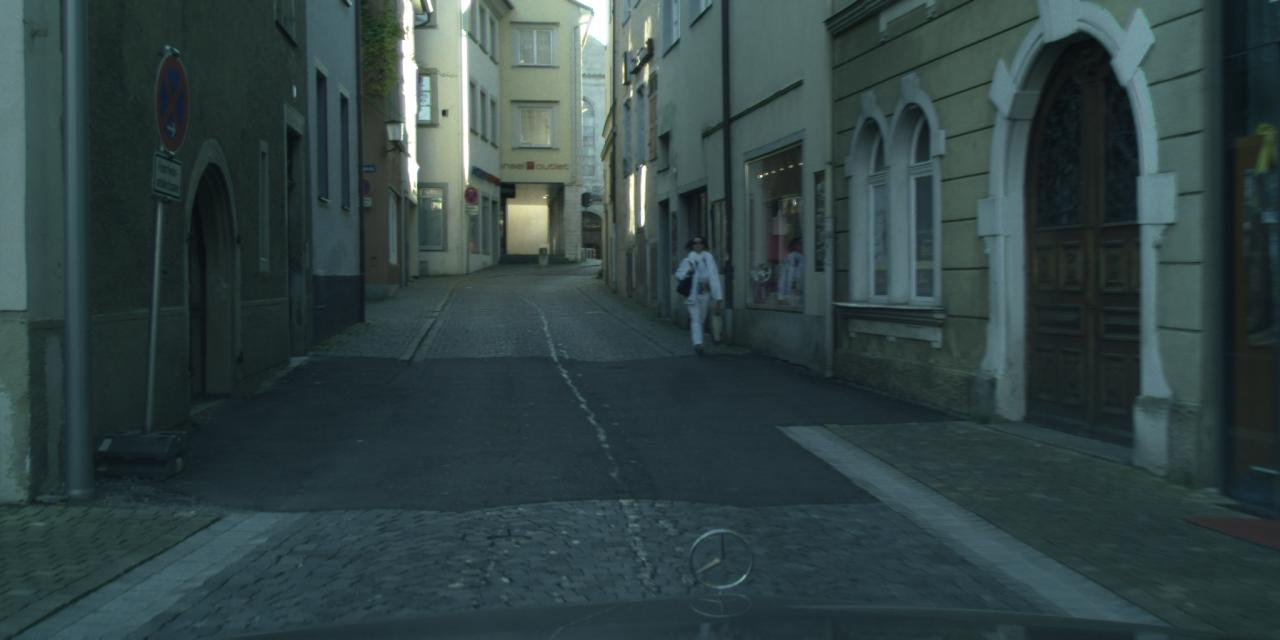ped: (674, 235, 722, 353)
